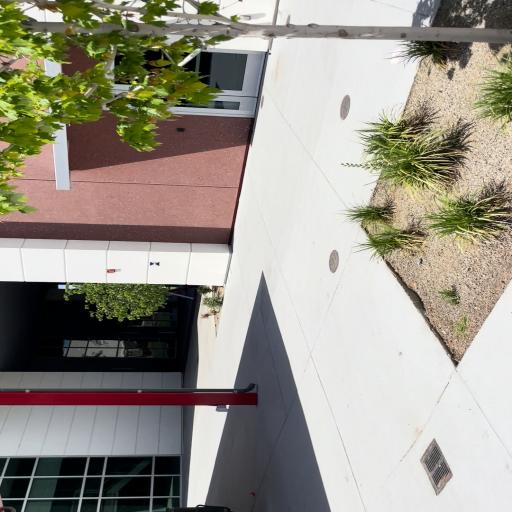target2: (150, 261, 160, 266)
